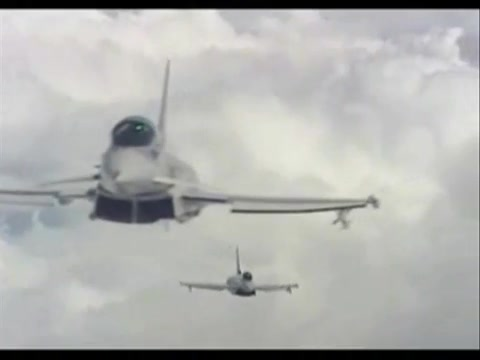aeroplane: (180, 246, 301, 299)
